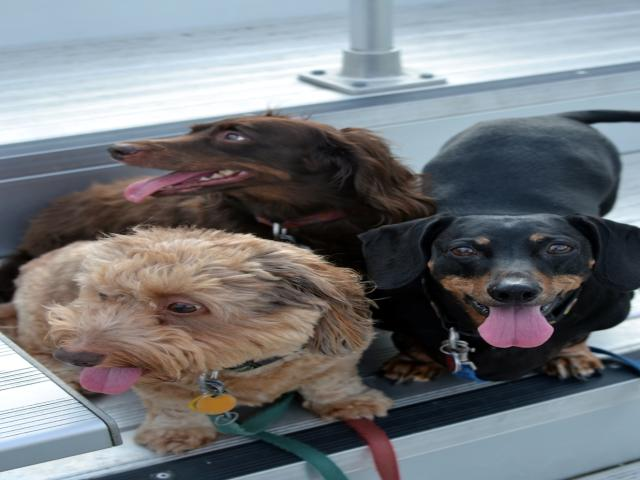Dog: (0, 221, 387, 457), (2, 104, 441, 304), (342, 108, 640, 386)
